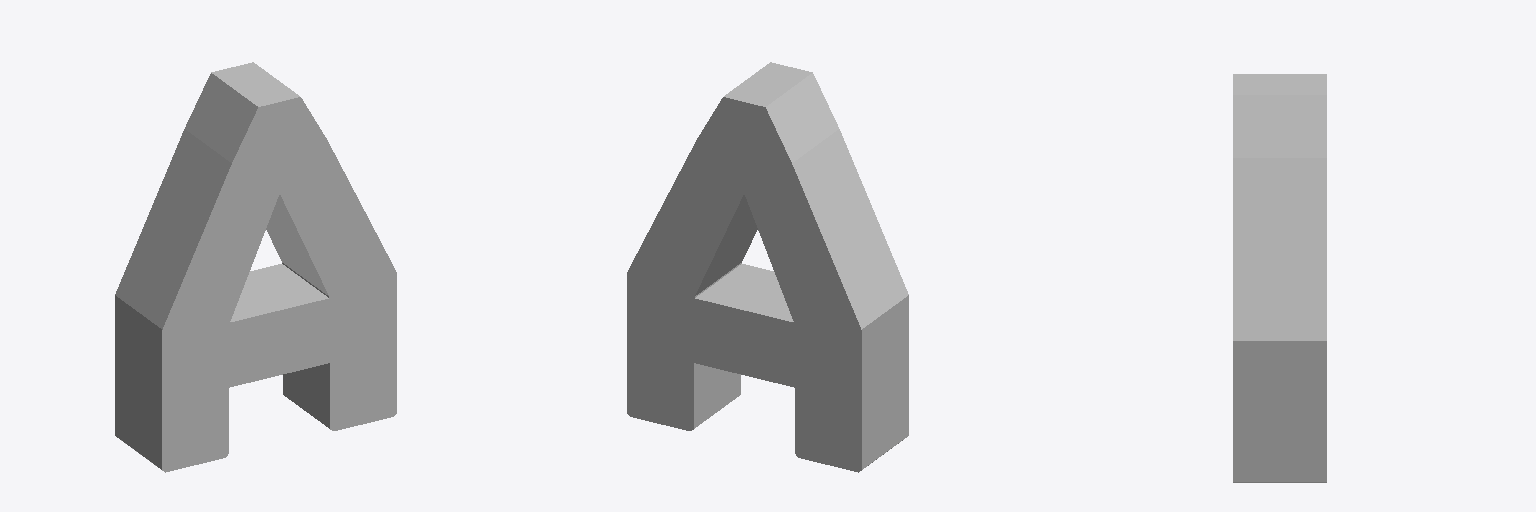
The picture shows the model from 3 angles: view 1: azimuth 30°, elevation 25°; view 2: azimuth 150°, elevation 25°; view 3: azimuth 270°, elevation 25°; orthographic projection.
Parts seen in each view (by area): view 1: text: ABCDEFGHIJKLMNOPQRSTUVWXYZ[number redacted]; view 2: text: ABCDEFGHIJKLMNOPQRSTUVWXYZ[number redacted]; view 3: text: ABCDEFGHIJKLMNOPQRSTUVWXYZ[number redacted].
Part boxes in pixels (left/top/right/bottom): text: ABCDEFGHIJKLMNOPQRSTUVWXYZ[number redacted]: left=115, top=62, right=396, bottom=472; text: ABCDEFGHIJKLMNOPQRSTUVWXYZ[number redacted]: left=627, top=62, right=908, bottom=472; text: ABCDEFGHIJKLMNOPQRSTUVWXYZ[number redacted]: left=1233, top=74, right=1326, bottom=482.
Bounding box in the file's own units: 71.35 × 99.57 × 25.